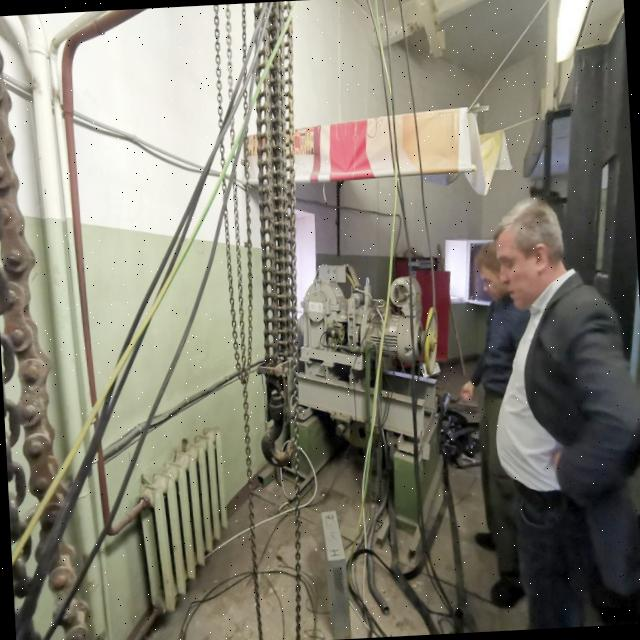NoHelmet: (495, 196, 571, 318), (476, 242, 507, 310)
